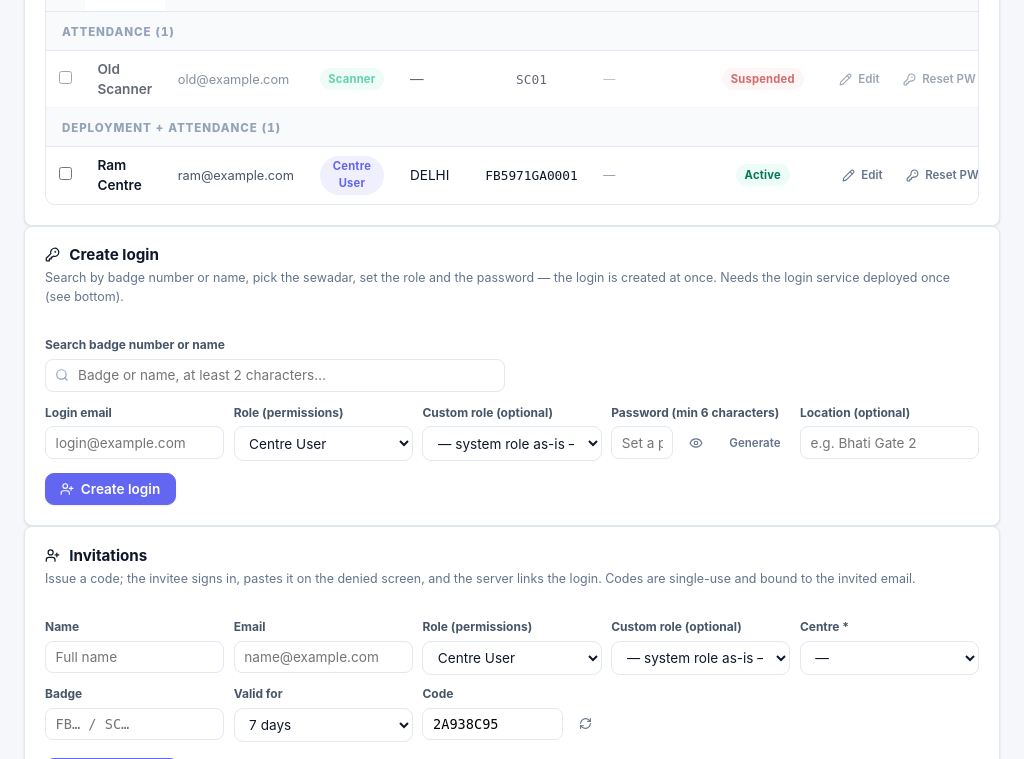
Test case: UsersPage — direct provisioning › searches badge and name together, tolerating spaces and dashes
(page scrolled)
Type "fb 5971 ga" into the dropdown named "Search sewadar by badge number or name" at (275, 375), box [45,359,505,392]
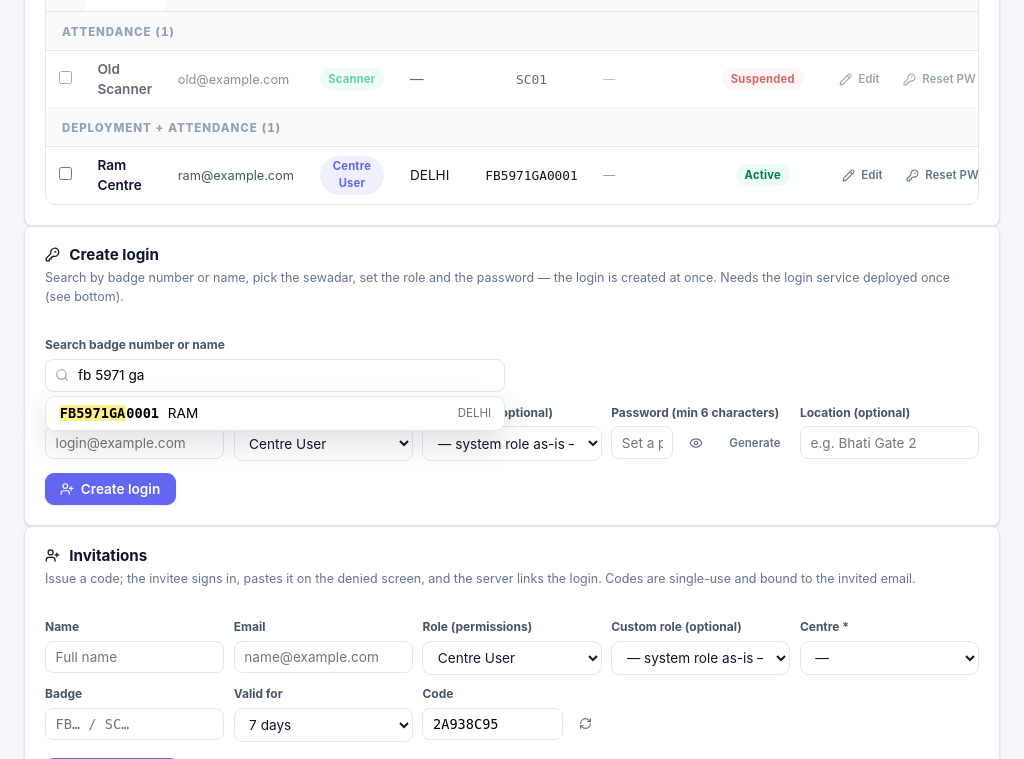
Expected: the option "FB5971GA0001 RAM DELHI" is shown, [46,396,504,430]
